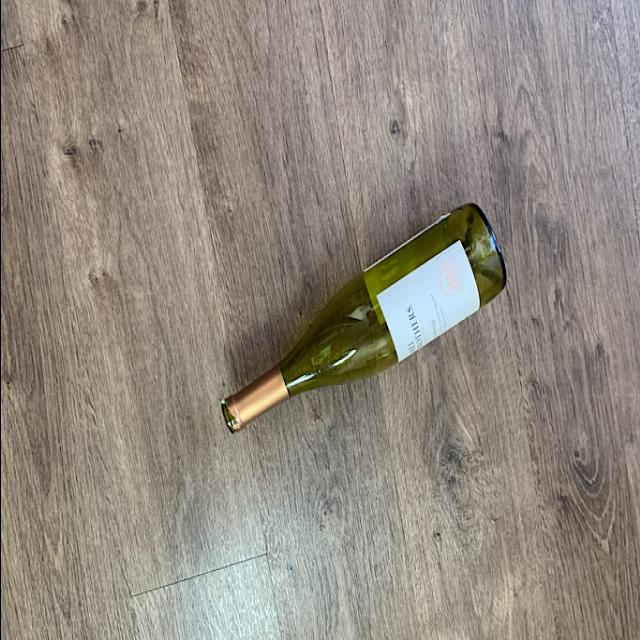litter: (216, 203, 506, 438)
